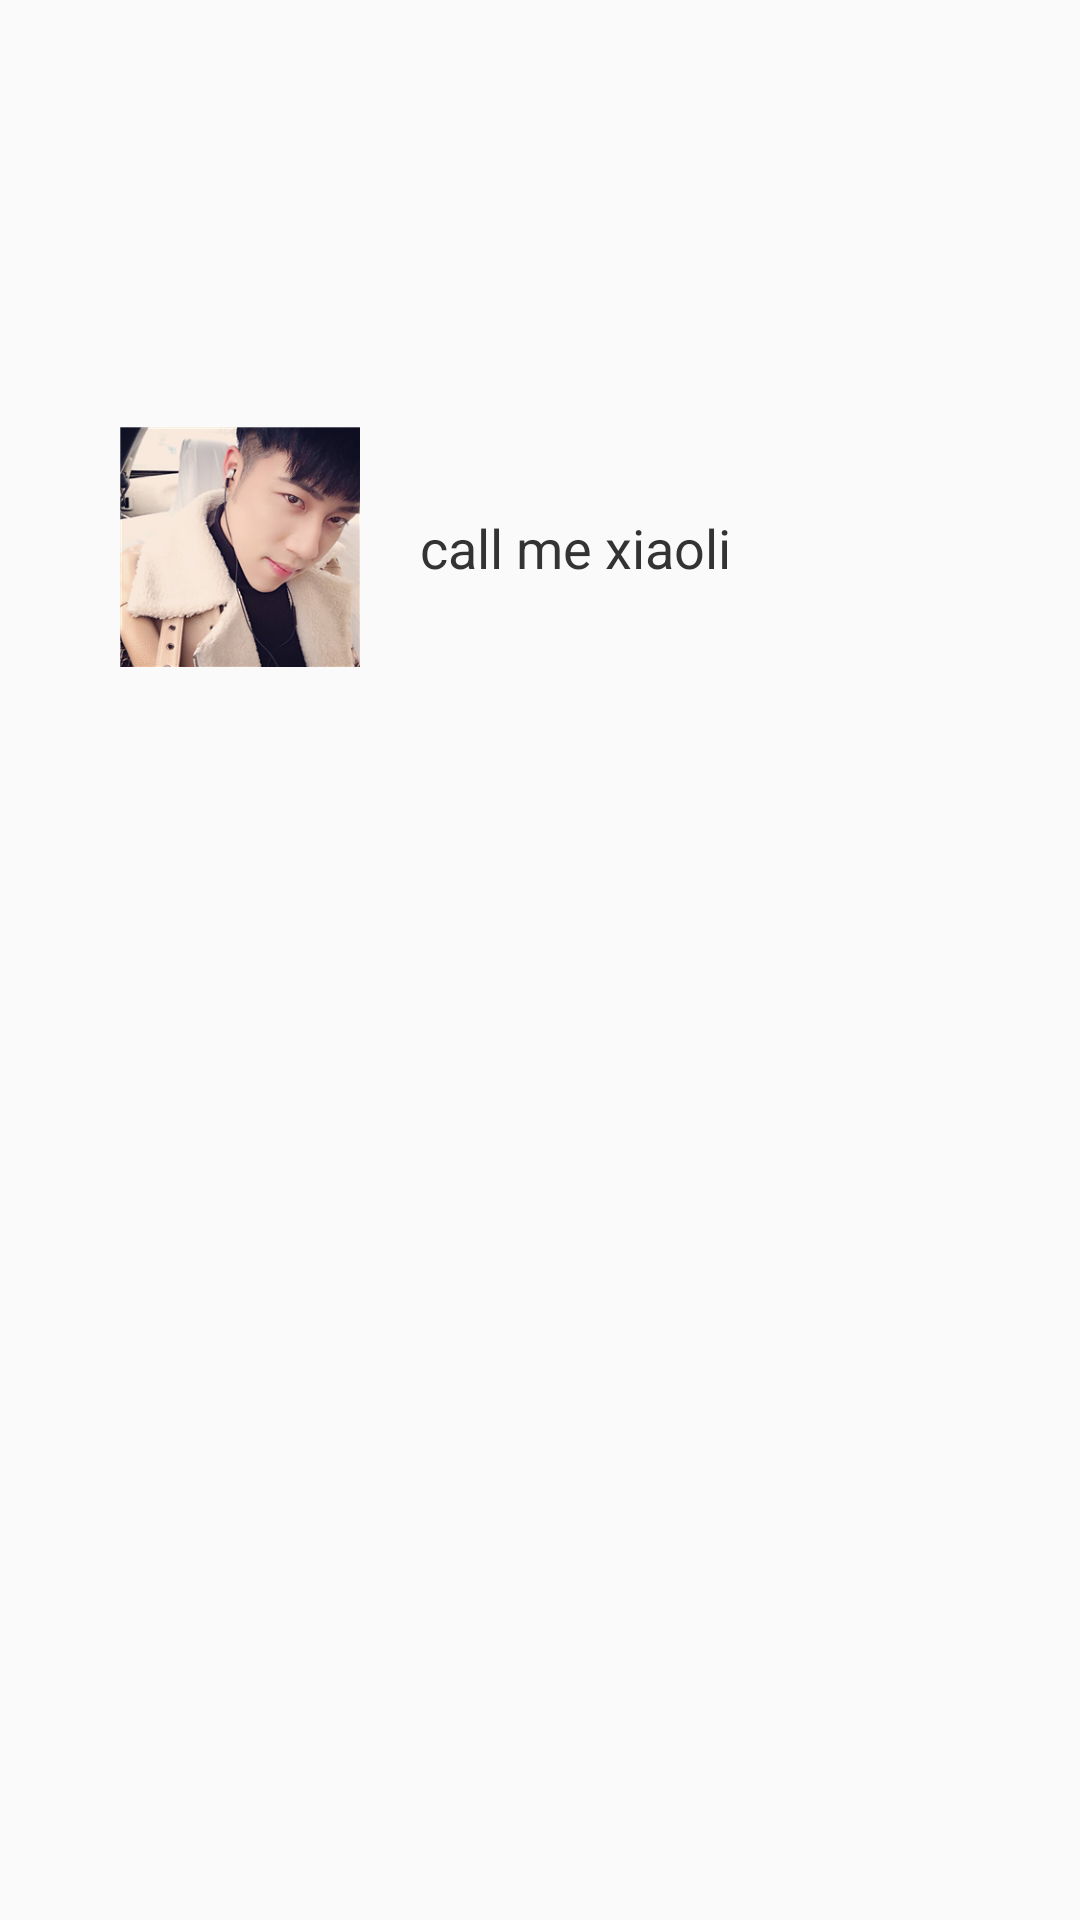

Where icons sit on this 1080x1920 app screen, as (x1, y1, x2, y2):
user: (120, 427, 360, 667)
